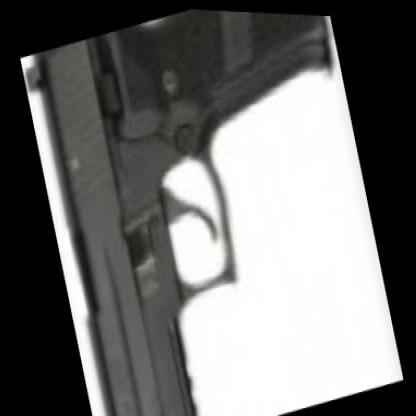pistol: (19, 0, 399, 415)
